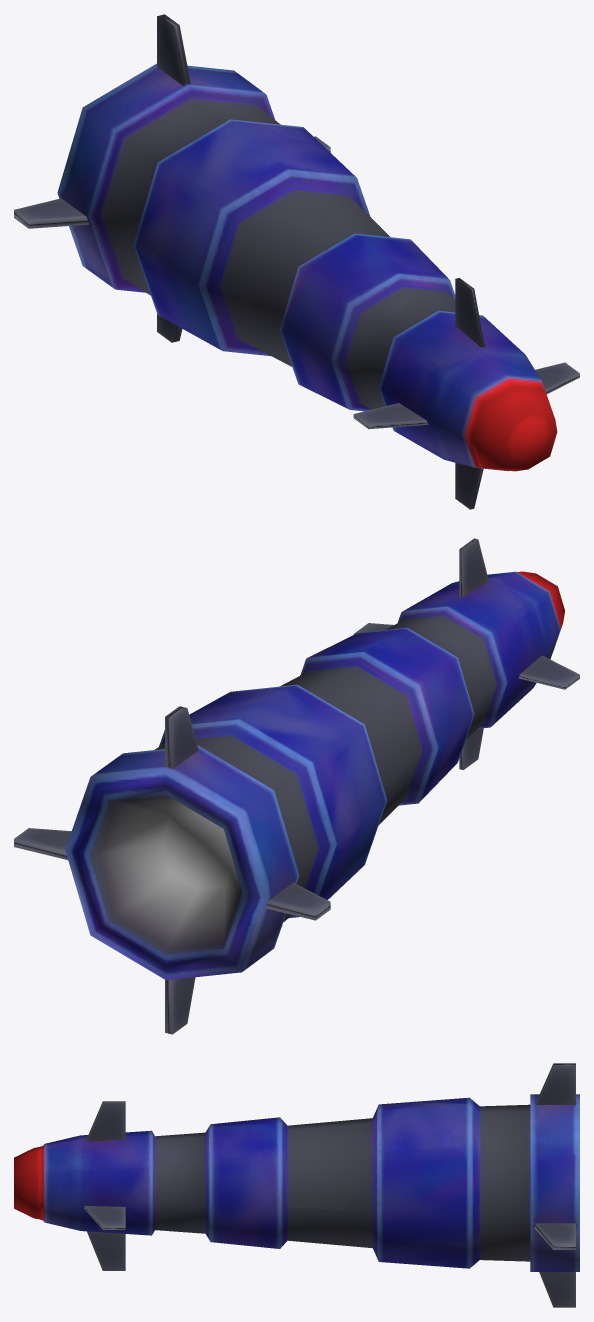
The model's file is MicroMissle_geo.fbx.
3 views of the same model, one above another, from view 1: azimuth 30°, elevation 25°; view 2: azimuth 150°, elevation 25°; view 3: azimuth 270°, elevation 25° (orthographic). The views are drawn at different scales.
Visible parts, largest first — view 1: SM_MicroMissle_geo; view 2: SM_MicroMissle_geo; view 3: SM_MicroMissle_geo.
Part boxes in pixels (box(x1,y1,x2,y2)): SM_MicroMissle_geo: box(14, 14, 579, 509); SM_MicroMissle_geo: box(14, 538, 579, 1034); SM_MicroMissle_geo: box(14, 1063, 579, 1307).
Size of the model in its own units: 11.64 by 24.73 by 11.64.
1 material, 1 textured.
